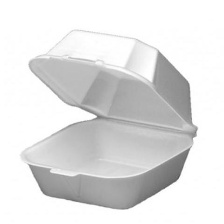foam_box: (16, 25, 202, 212)
